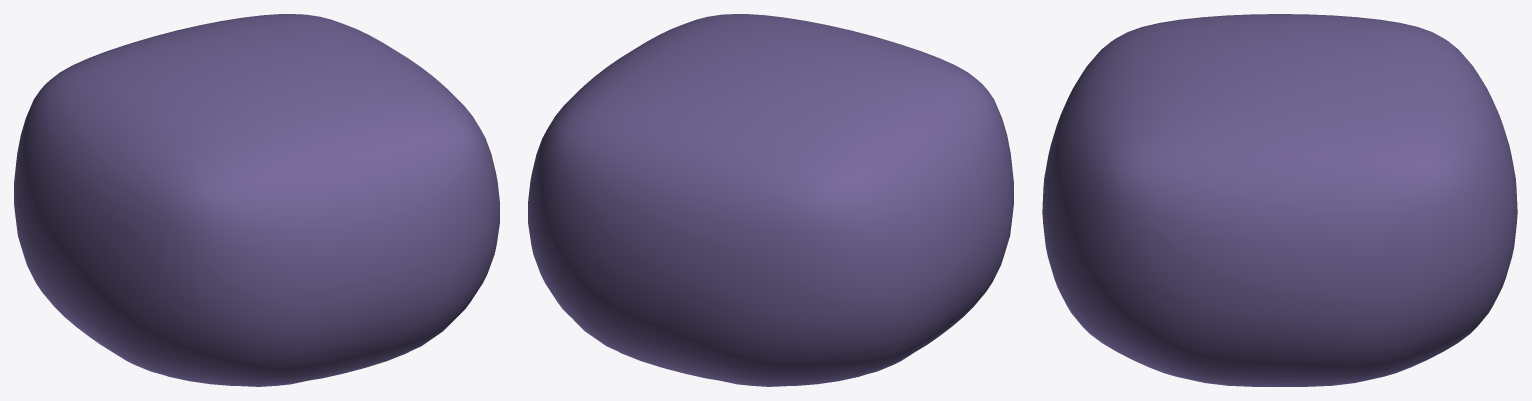
File: Pouf2_5.fbx
The picture shows the model from 3 angles, left to right: view 1: azimuth 30°, elevation 25°; view 2: azimuth 150°, elevation 25°; view 3: azimuth 270°, elevation 25°; orthographic projection. The views are drawn at different scales.
Visible parts, largest first — view 1: pCube2894; view 2: pCube2894; view 3: pCube2894.
Boxes of the visible parts, box(x1,y1,x2,y2) form: pCube2894: box(14, 14, 499, 386); pCube2894: box(528, 14, 1013, 386); pCube2894: box(1042, 14, 1517, 386).
Size of the model in its own units: 34.76 by 23.17 by 34.75.
